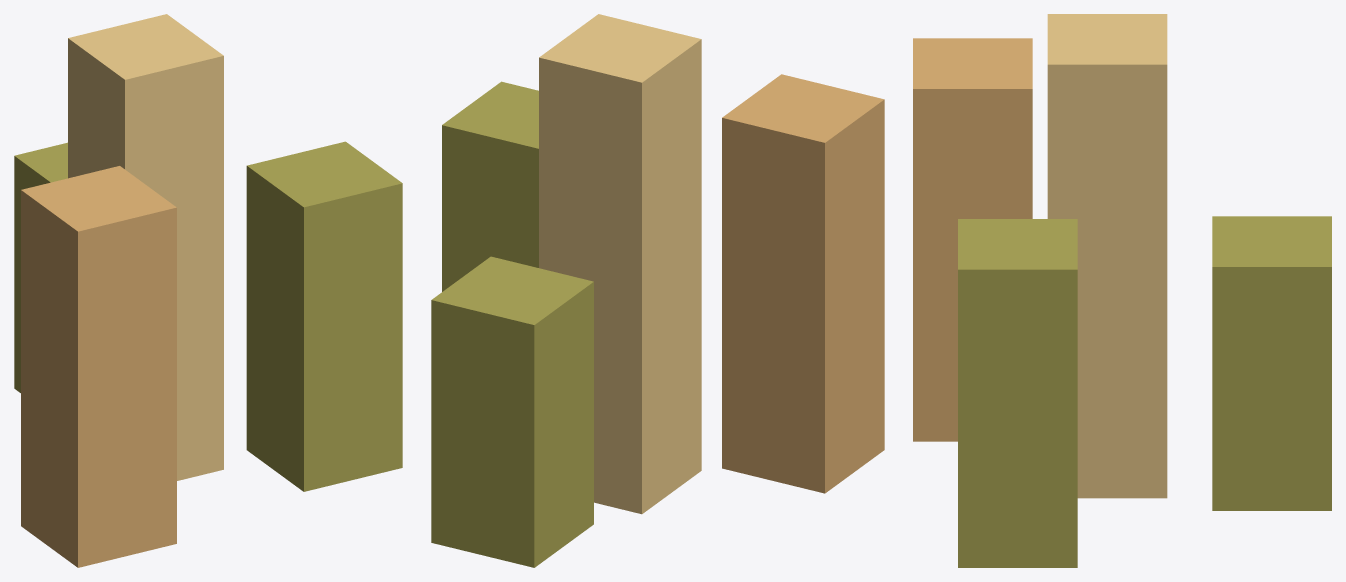
The model's file is DesertTuft.glb.
3 renders of one model, left to right at view 1: azimuth 30°, elevation 25°; view 2: azimuth 150°, elevation 25°; view 3: azimuth 270°, elevation 25°, orthographic. The views are drawn at different scales.
Visible parts, largest first — view 1: DesertTuft; view 2: DesertTuft; view 3: DesertTuft.
Boxes of the visible parts, x1,y1,x2,y2 form: DesertTuft: [14, 14, 402, 567]; DesertTuft: [431, 14, 884, 567]; DesertTuft: [913, 14, 1331, 567].
Size of the model in its own units: 1.4 by 1.6 by 1.4.
Materials: 1 (1 with a texture image).
